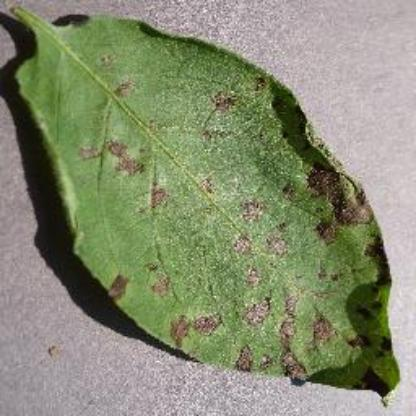Early-Blight: (9, 3, 401, 399)
